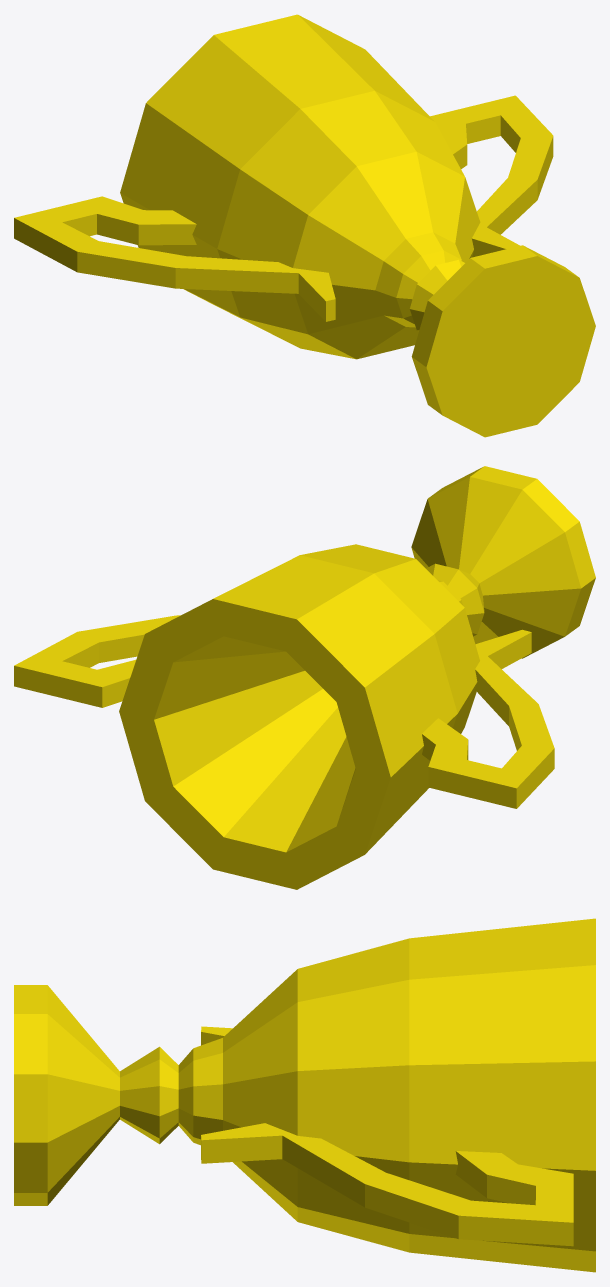
File: Cup_Gold.fbx
3 renders of one model, top to bottom at view 1: azimuth 30°, elevation 25°; view 2: azimuth 150°, elevation 25°; view 3: azimuth 270°, elevation 25°, orthographic. The views are drawn at different scales.
Parts seen in each view (by area): view 1: Cup_Gold; view 2: Cup_Gold; view 3: Cup_Gold.
Part boxes in pixels (x1,y1,x2,y2): Cup_Gold: (14, 14, 595, 437); Cup_Gold: (14, 466, 595, 889); Cup_Gold: (14, 918, 595, 1272).
Bounding box in the file's own units: 119 × 61.14 × 105.
